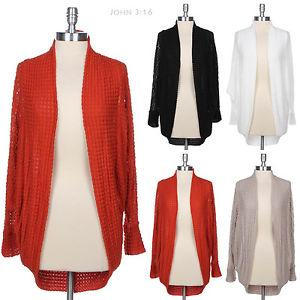S_cardigan sweater: (4, 47, 152, 286), (150, 27, 230, 151), (222, 172, 300, 298), (145, 172, 222, 295), (232, 18, 292, 149)
